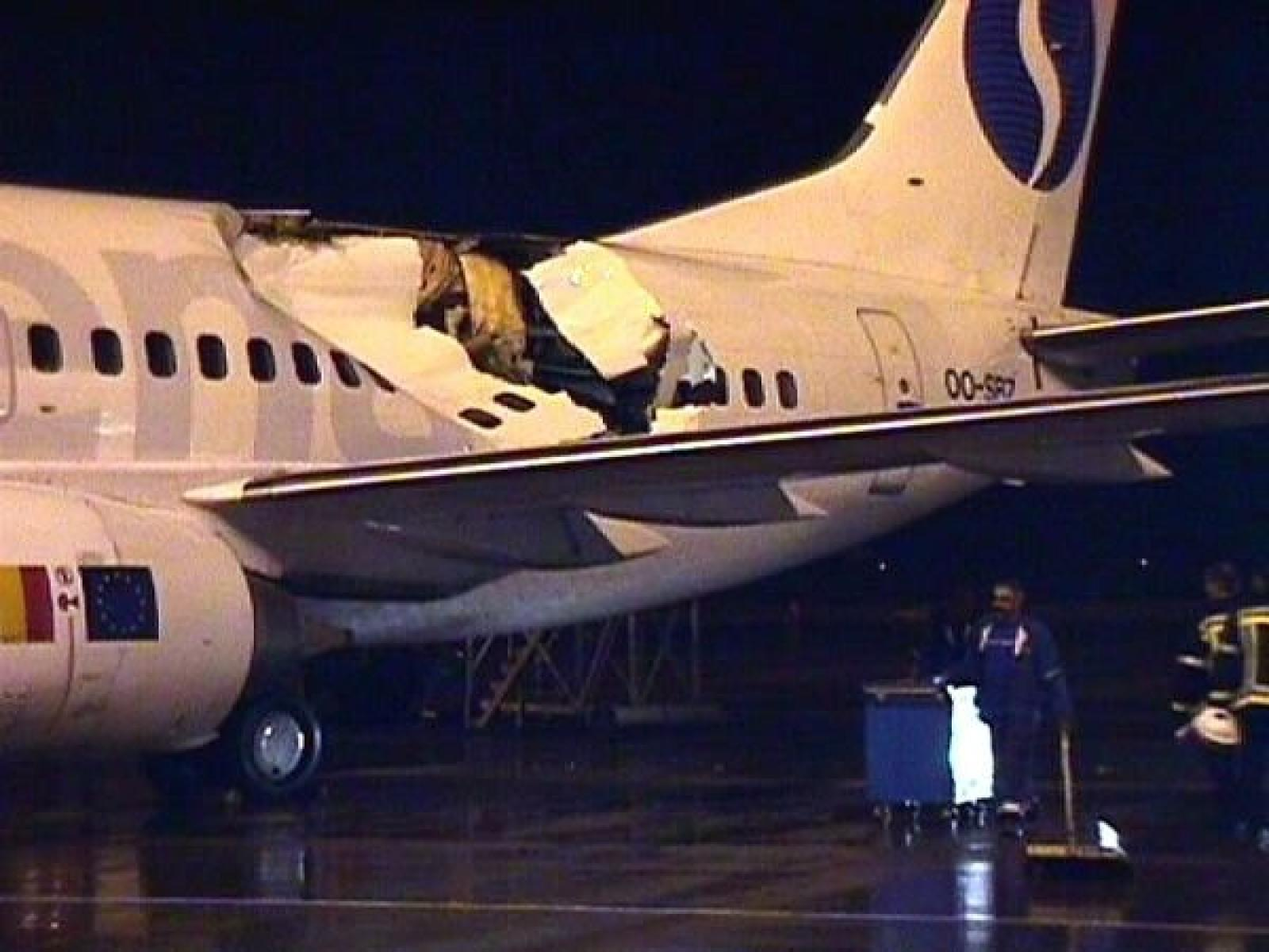Fuselage_damage: (417, 241, 668, 432), (668, 341, 725, 406)
